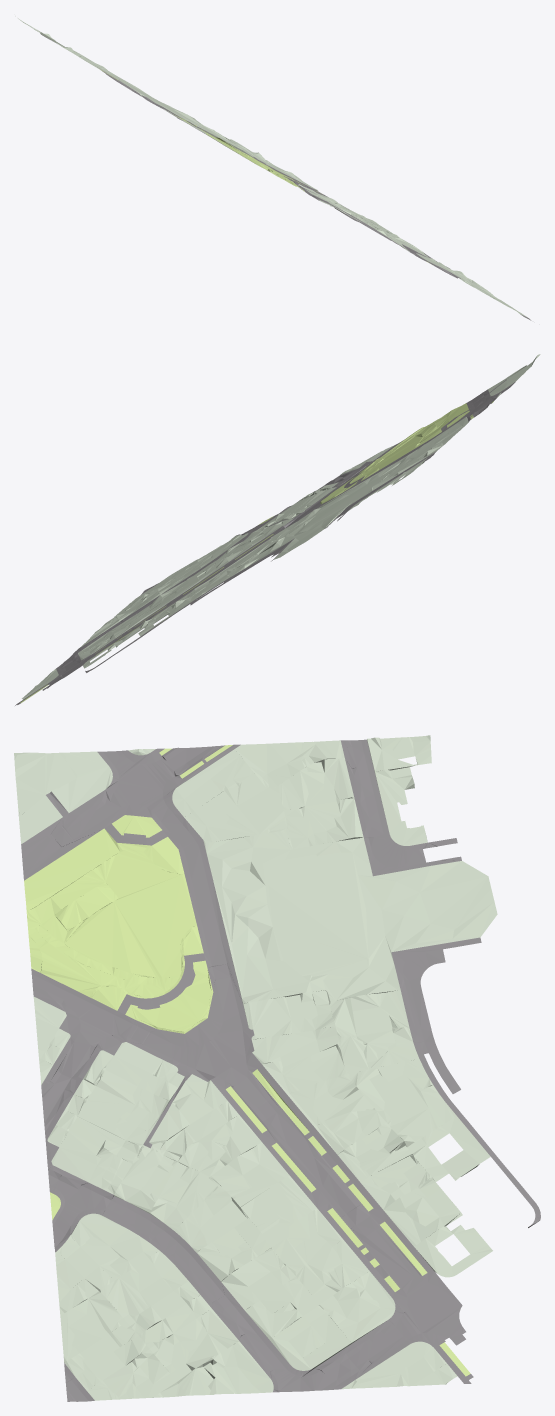
3 renders of one model, top to bottom at view 1: azimuth 30°, elevation 25°; view 2: azimuth 150°, elevation 25°; view 3: azimuth 270°, elevation 25°, orthographic. The views are drawn at different scales.
Bounding box in the file's own units: 208 × 156 × 181.
